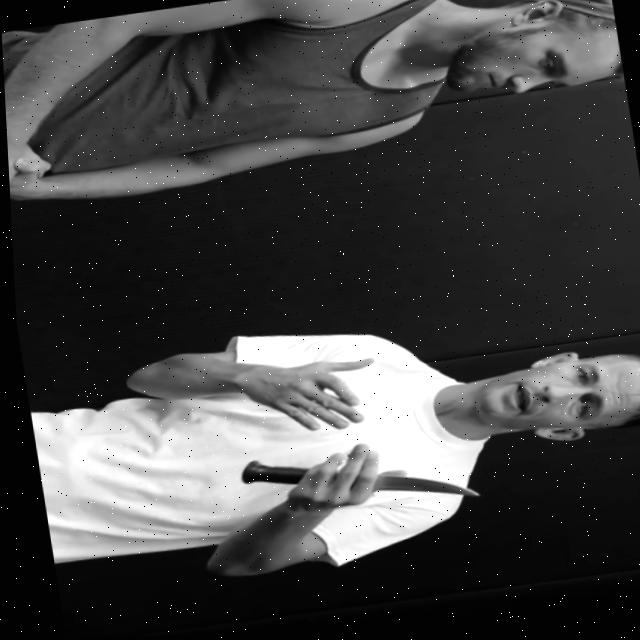knife: (362, 464, 475, 515)
